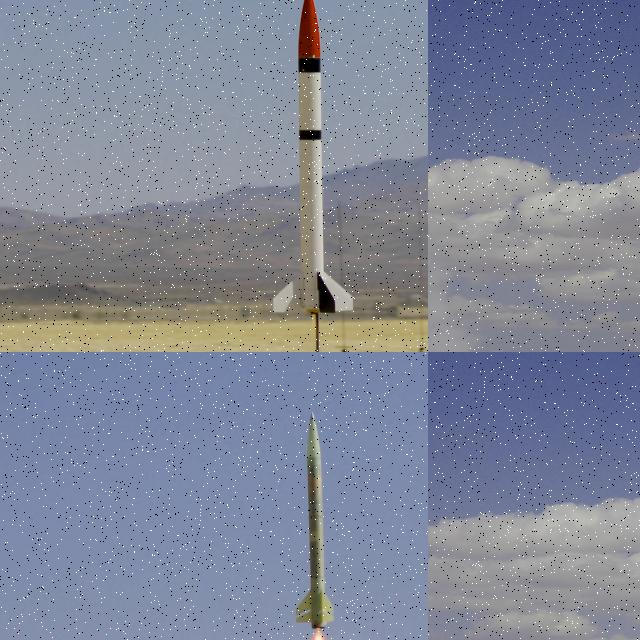Rocket: (271, 0, 354, 315), (295, 411, 336, 631)
